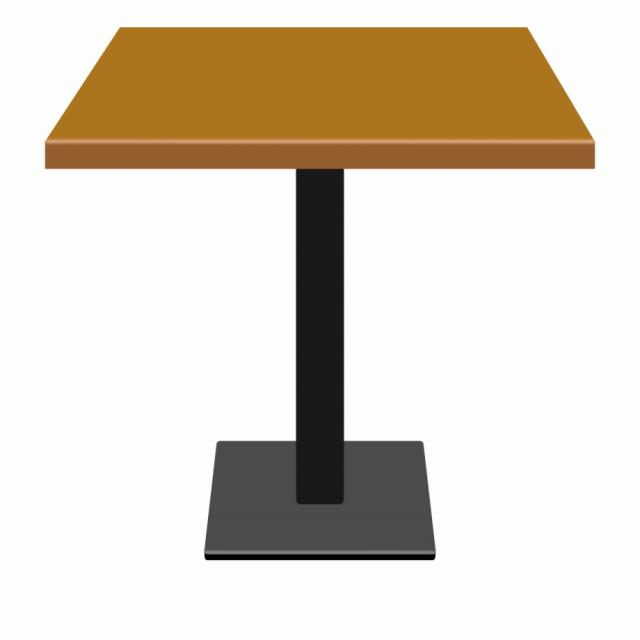Table: (9, 13, 626, 614)
